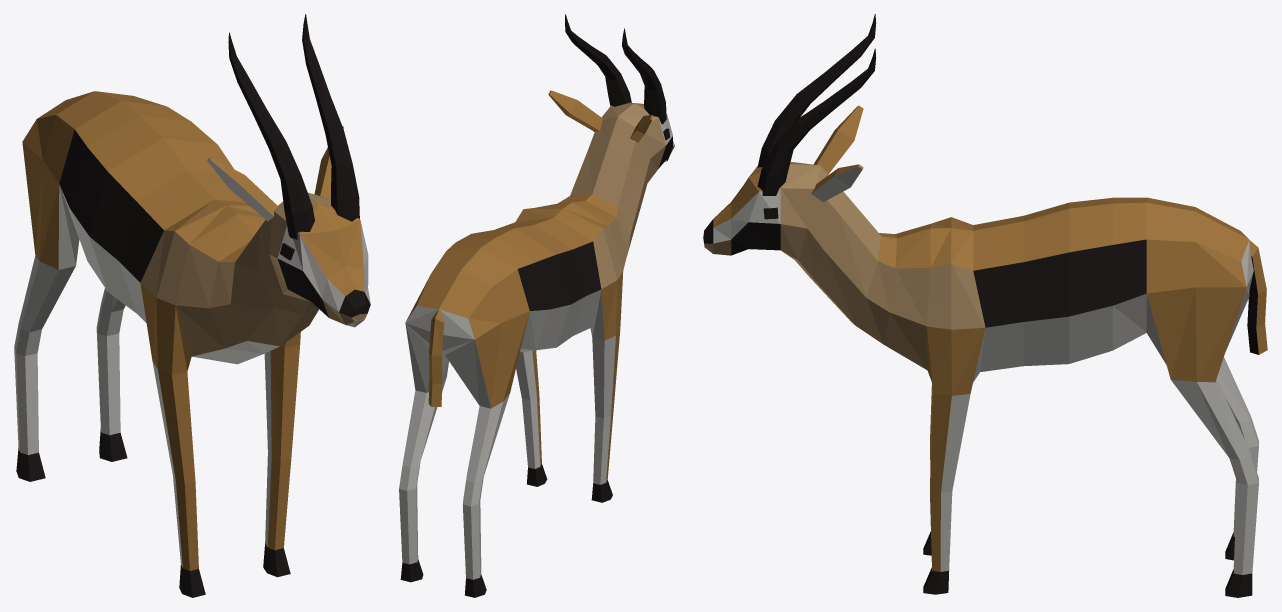
The model's file is blackbuck.glb.
3 renders of one model, left to right at view 1: azimuth 30°, elevation 25°; view 2: azimuth 150°, elevation 25°; view 3: azimuth 270°, elevation 25°, orthographic. The views are drawn at different scales.
Visible parts, largest first — view 1: blackbuck; view 2: blackbuck; view 3: blackbuck.
Boxes of the visible parts, x1,y1,x2,y2 form: blackbuck: (14, 14, 370, 597); blackbuck: (399, 14, 674, 597); blackbuck: (703, 14, 1267, 597).
Bounding box in the file's own units: 36.52 × 139 × 131.
